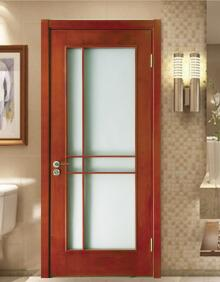door: (50, 28, 154, 273)
